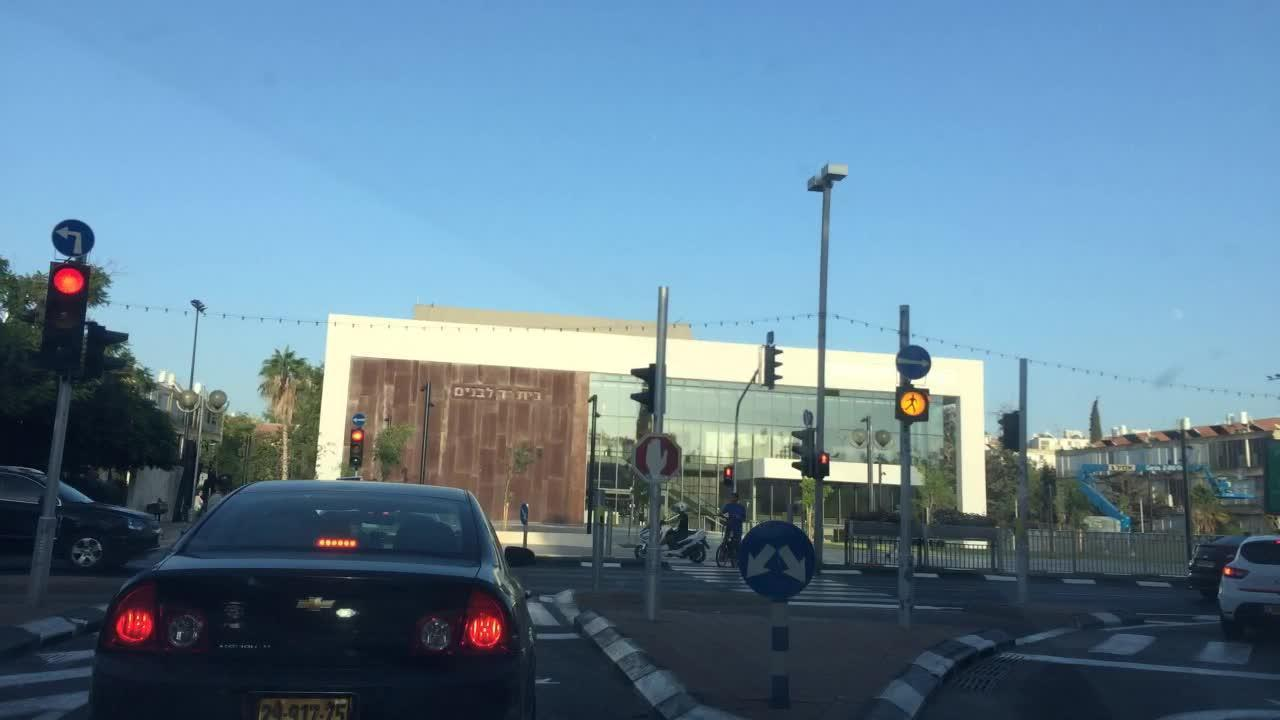chevrolet: (291, 583, 341, 621)
